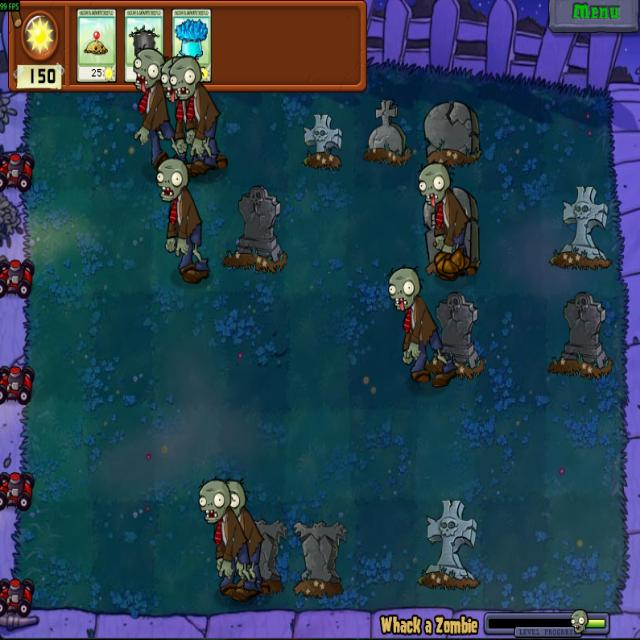grave: (223, 182, 289, 276), (417, 497, 480, 590), (545, 293, 613, 377), (548, 186, 613, 271), (426, 292, 486, 380), (421, 186, 479, 276), (291, 516, 348, 600), (231, 516, 288, 594), (421, 97, 481, 164), (358, 99, 414, 166), (298, 111, 345, 172)
gravebuster: (124, 8, 164, 82)
zombie: (386, 266, 422, 312), (154, 158, 190, 203), (197, 478, 231, 524), (131, 47, 166, 91), (417, 162, 450, 207), (170, 55, 202, 100), (161, 57, 183, 101), (221, 480, 246, 518)
